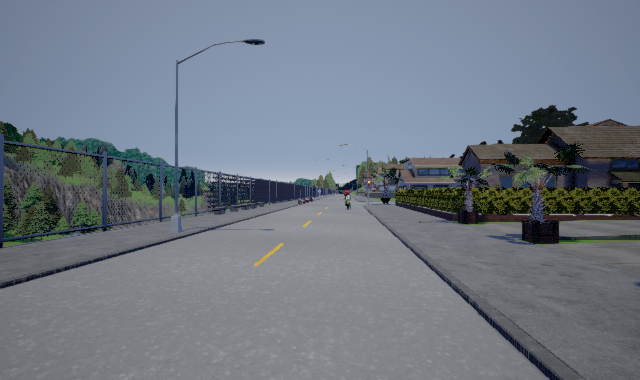motobike: (342, 191, 354, 209)
